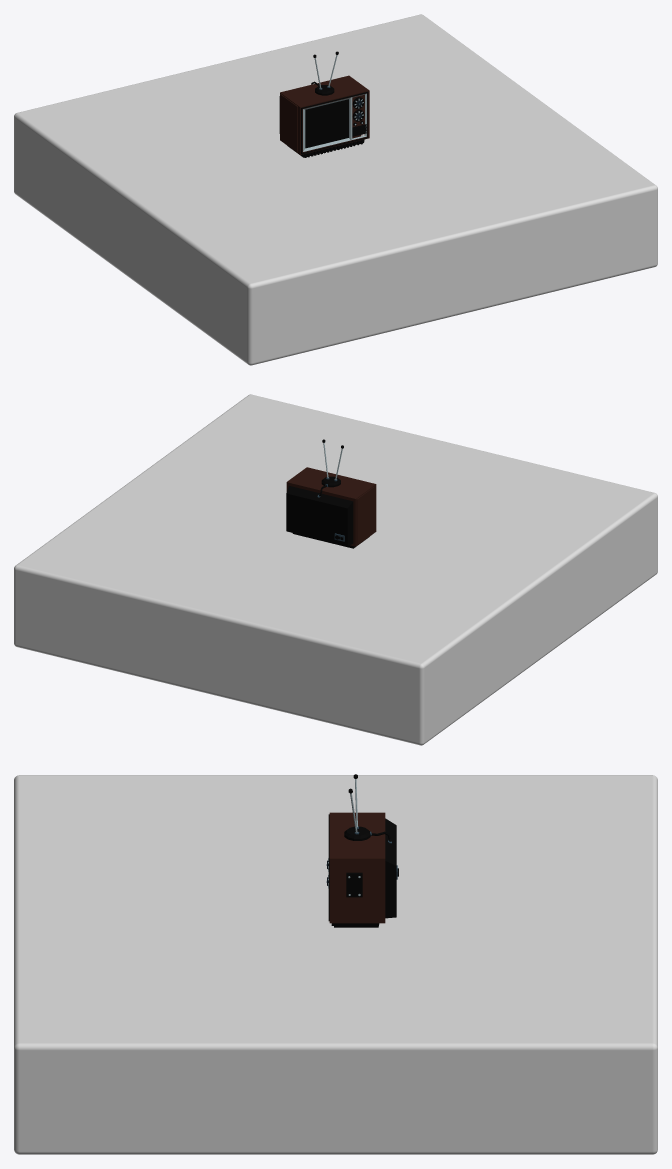
The model's file is tv_close.gltf.
3 views of the same model, one above another, from view 1: azimuth 30°, elevation 25°; view 2: azimuth 150°, elevation 25°; view 3: azimuth 270°, elevation 25° (orthographic). The views are drawn at different scales.
Visible parts, largest first — view 1: Floor, group926842016, group1507732589; view 2: Floor, group466038209, group926842016, group1507732589; view 3: Floor, group926842016, group466038209.
Part boxes in pixels (x1,y1,x2,y2): Floor: (14,14,657,365); group926842016: (280,75,369,154); group1507732589: (280,94,297,152); Floor: (14,394,657,745); group466038209: (286,485,353,546); group926842016: (286,467,376,546); group1507732589: (356,486,374,545); Floor: (14,775,657,1154); group926842016: (329,812,385,923); group466038209: (385,818,396,918).
Bounding box in the file's own units: 4.65 × 1.89 × 4.65.
